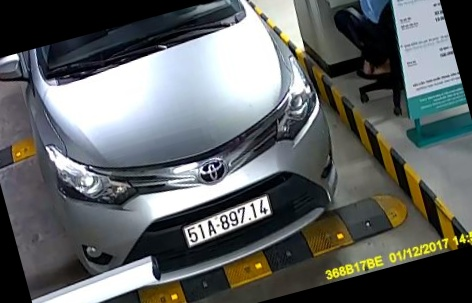plate: (180, 194, 276, 253)
